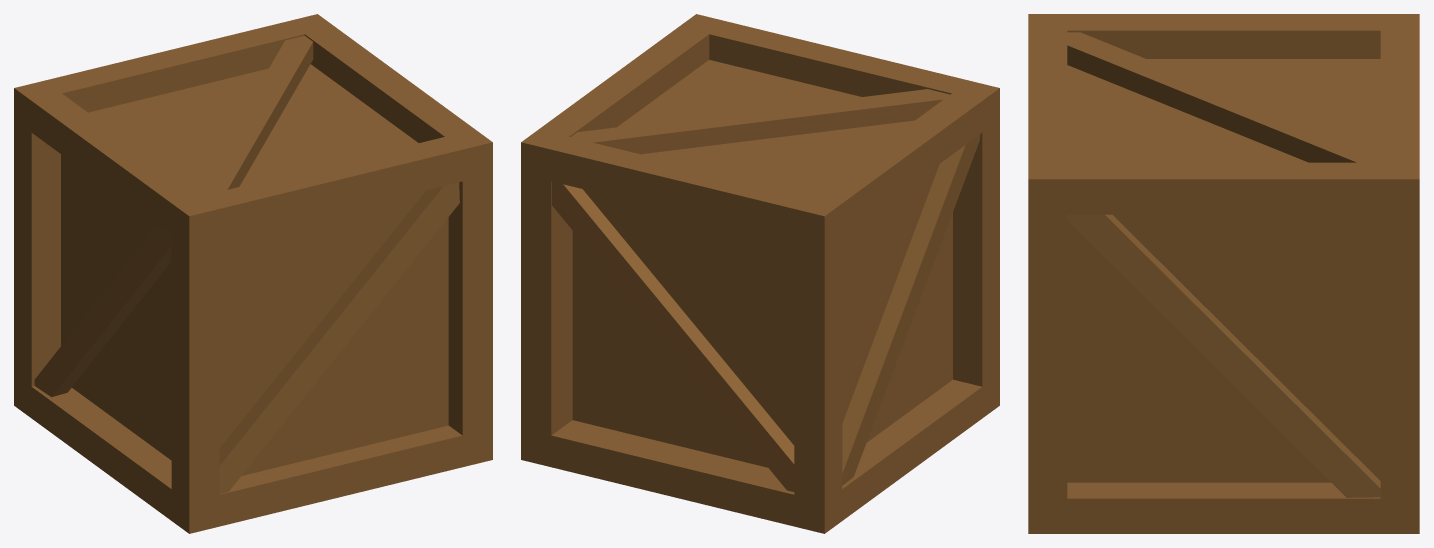
Rendered from Wooden crate.fbx.
The picture shows the model from 3 angles, left to right: view 1: azimuth 30°, elevation 25°; view 2: azimuth 150°, elevation 25°; view 3: azimuth 270°, elevation 25°; orthographic projection. The views are drawn at different scales.
Parts seen in each view (by area): view 1: Wooden_Create_pCube8; view 2: Wooden_Create_pCube8; view 3: Wooden_Create_pCube8.
Part boxes in pixels (x1,y1,x2,y2): Wooden_Create_pCube8: (14,14,492,533); Wooden_Create_pCube8: (521,14,999,533); Wooden_Create_pCube8: (1028,14,1419,533).
Size of the model in its own units: 2.94 by 2.94 by 2.94.
